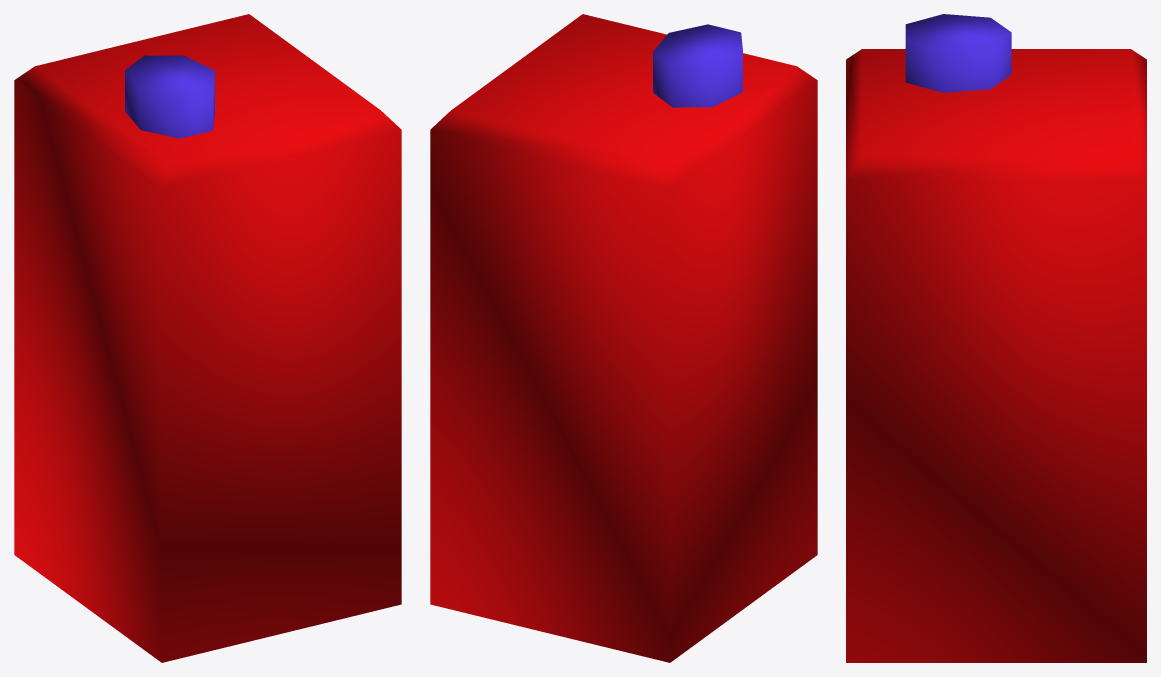
Rendered from succo_ace_mini.fbx.
3 views of the same model, side by side, from view 1: azimuth 30°, elevation 25°; view 2: azimuth 150°, elevation 25°; view 3: azimuth 270°, elevation 25° (orthographic).
Parts seen in each view (by area): view 1: ace_mini; view 2: ace_mini; view 3: ace_mini.
Boxes of the visible parts, x1=… form: ace_mini: x1=14, y1=14, x2=401, y2=662; ace_mini: x1=430, y1=14, x2=817, y2=662; ace_mini: x1=846, y1=14, x2=1146, y2=662.
Bounding box in the file's own units: 66.34 × 141 × 70.7.
